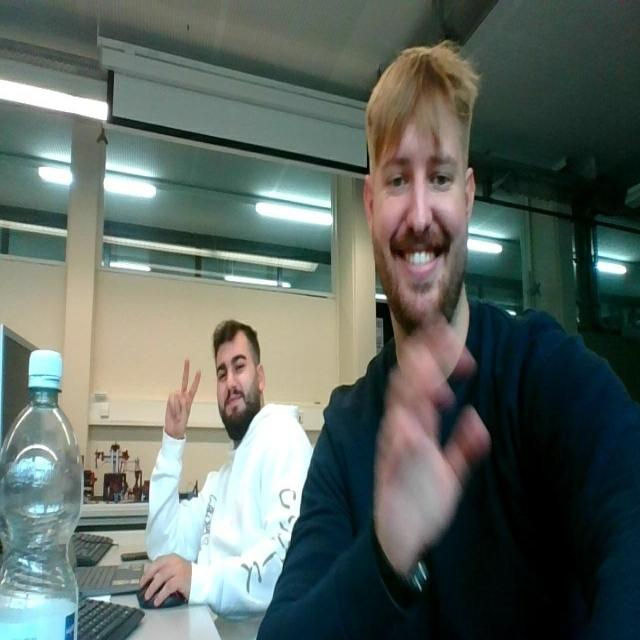Sero: (212, 322, 267, 444)
face: (364, 39, 477, 340)
